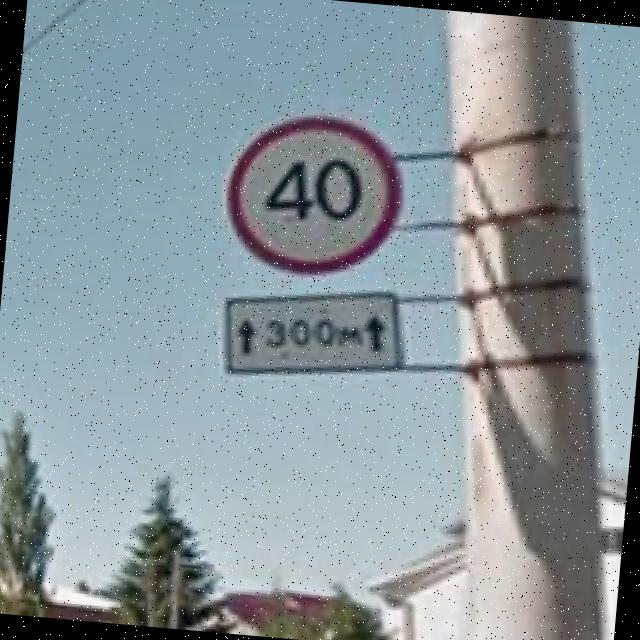Ograniczenie predkosci do 40: (219, 104, 408, 280)
